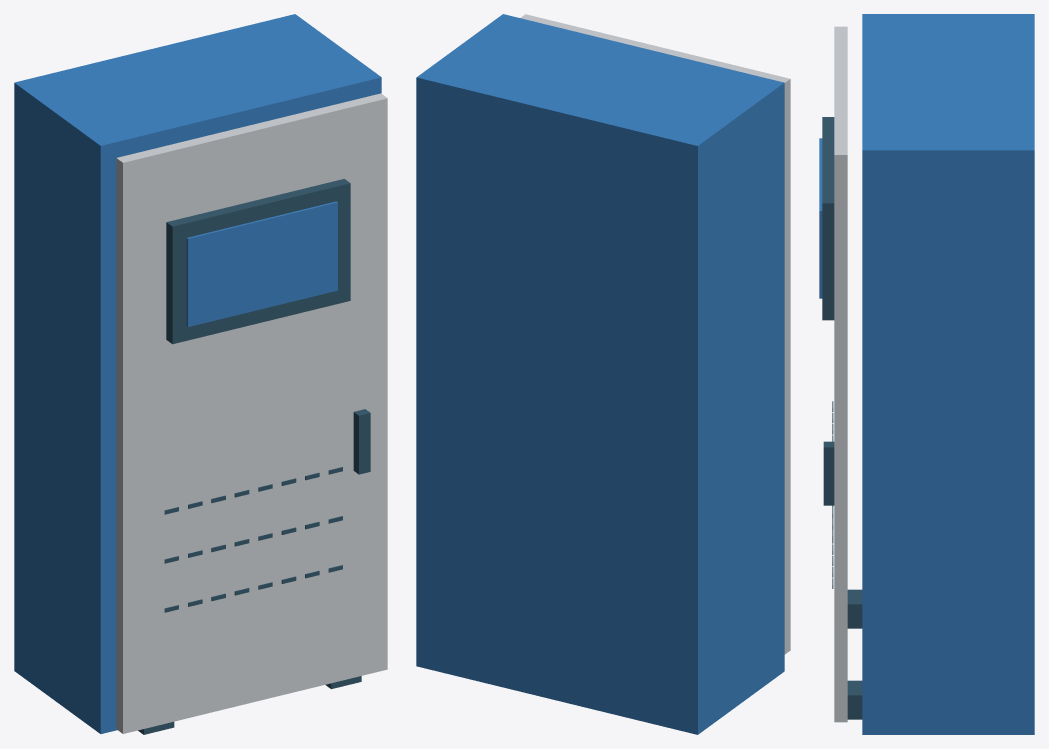
Rendered from connect.glb.
The picture shows the model from 3 angles, left to right: view 1: azimuth 30°, elevation 25°; view 2: azimuth 150°, elevation 25°; view 3: azimuth 270°, elevation 25°; orthographic projection.
Parts seen in each view (by area): view 1: front door, cabinet body, operator screen, display housing, door latch; view 2: cabinet body, front door; view 3: cabinet body, front door, display housing, cabinet foot (×2), door latch, operator screen.
Boxes of the visible parts, x1,y1,x2,y2 form: front door: (116, 93, 387, 733); cabinet body: (14, 14, 381, 733); operator screen: (186, 201, 337, 326); display housing: (166, 179, 350, 344); door latch: (353, 409, 370, 474); cabinet body: (416, 14, 784, 734); front door: (520, 14, 790, 654); cabinet body: (862, 14, 1034, 734); front door: (834, 26, 847, 722); display housing: (822, 117, 834, 320); cabinet foot (×2): (847, 589, 862, 719); door latch: (823, 441, 834, 505); operator screen: (819, 138, 822, 298).
Bounding box in the file's own units: 0.6 × 1.2 × 0.4.
